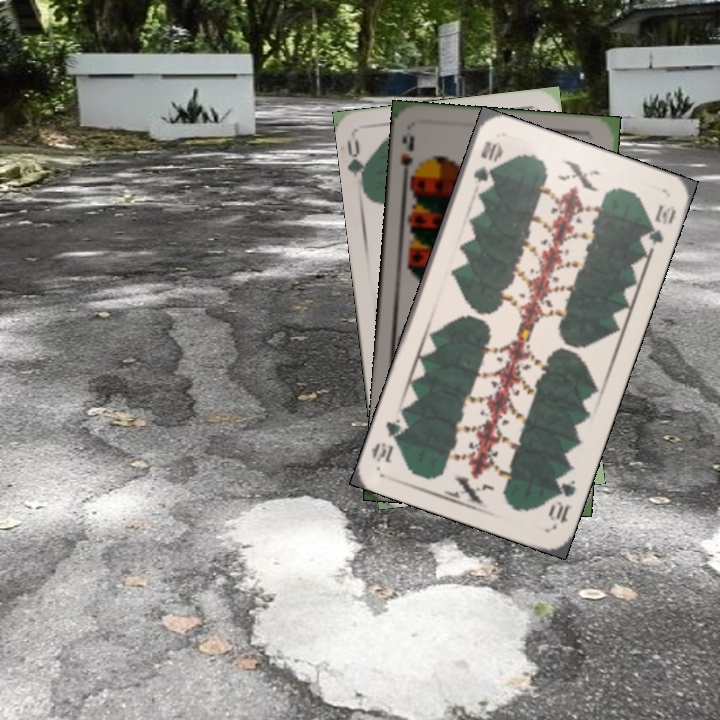G10: (544, 476, 578, 528), (469, 136, 504, 186)
GO: (343, 134, 372, 193)
S9: (396, 131, 421, 186)
